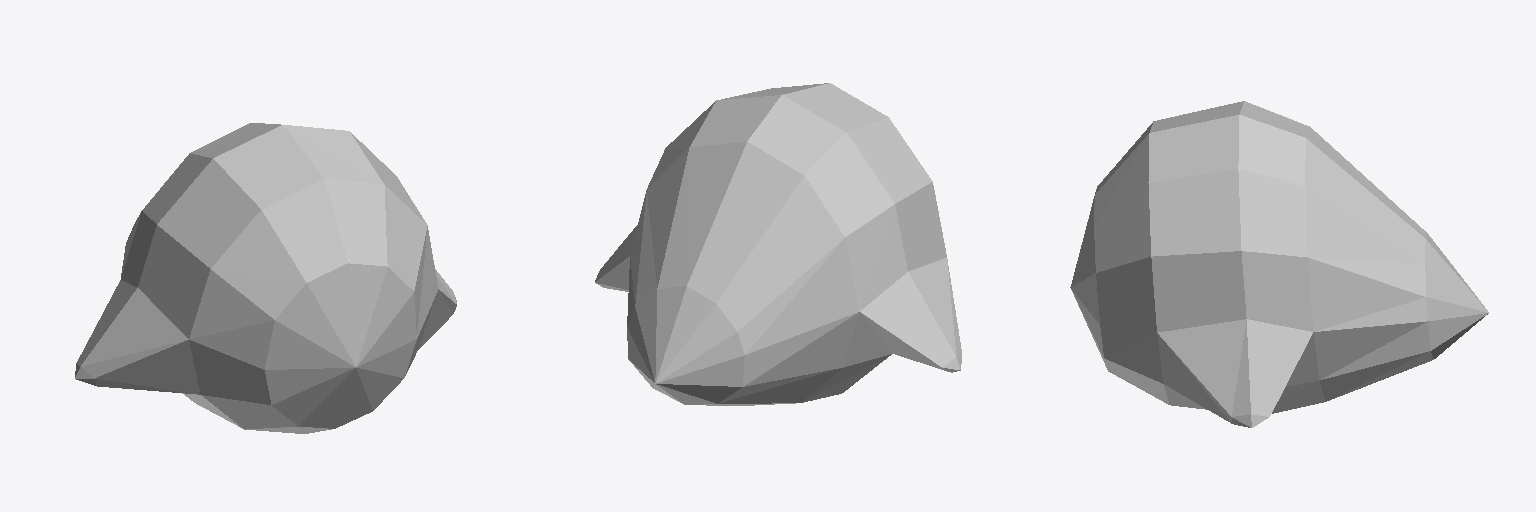
Rendered from boo.obj.
3 renders of one model, left to right at view 1: azimuth 30°, elevation 25°; view 2: azimuth 150°, elevation 25°; view 3: azimuth 270°, elevation 25°, orthographic.
Parts seen in each view (by area): view 1: DrawCall_91, DrawCall_103, DrawCall_93, DrawCall_95, DrawCall_97, DrawCall_99; view 2: DrawCall_103, DrawCall_93, DrawCall_95, DrawCall_91, DrawCall_97, DrawCall_99; view 3: DrawCall_103, DrawCall_99, DrawCall_91, DrawCall_97, DrawCall_95.
Boxes of the visible parts, x1=… form: DrawCall_91: x1=121, y1=179, x2=456, y2=369; DrawCall_103: x1=75, y1=225, x2=456, y2=433; DrawCall_93: x1=142, y1=153, x2=260, y2=268; DrawCall_95: x1=190, y1=123, x2=323, y2=209; DrawCall_97: x1=283, y1=125, x2=383, y2=184; DrawCall_99: x1=350, y1=132, x2=426, y2=223; DrawCall_103: x1=595, y1=204, x2=961, y2=405; DrawCall_93: x1=656, y1=117, x2=932, y2=382; DrawCall_95: x1=655, y1=83, x2=887, y2=383; DrawCall_91: x1=595, y1=182, x2=946, y2=382; DrawCall_97: x1=655, y1=83, x2=827, y2=382; DrawCall_99: x1=635, y1=101, x2=715, y2=380; DrawCall_103: x1=1071, y1=251, x2=1488, y2=427; DrawCall_99: x1=1149, y1=169, x2=1488, y2=312; DrawCall_91: x1=1070, y1=121, x2=1487, y2=427; DrawCall_97: x1=1148, y1=115, x2=1487, y2=310; DrawCall_95: x1=1150, y1=101, x2=1484, y2=306.
Size of the model in its own units: 5.76 by 4.26 by 5.59.